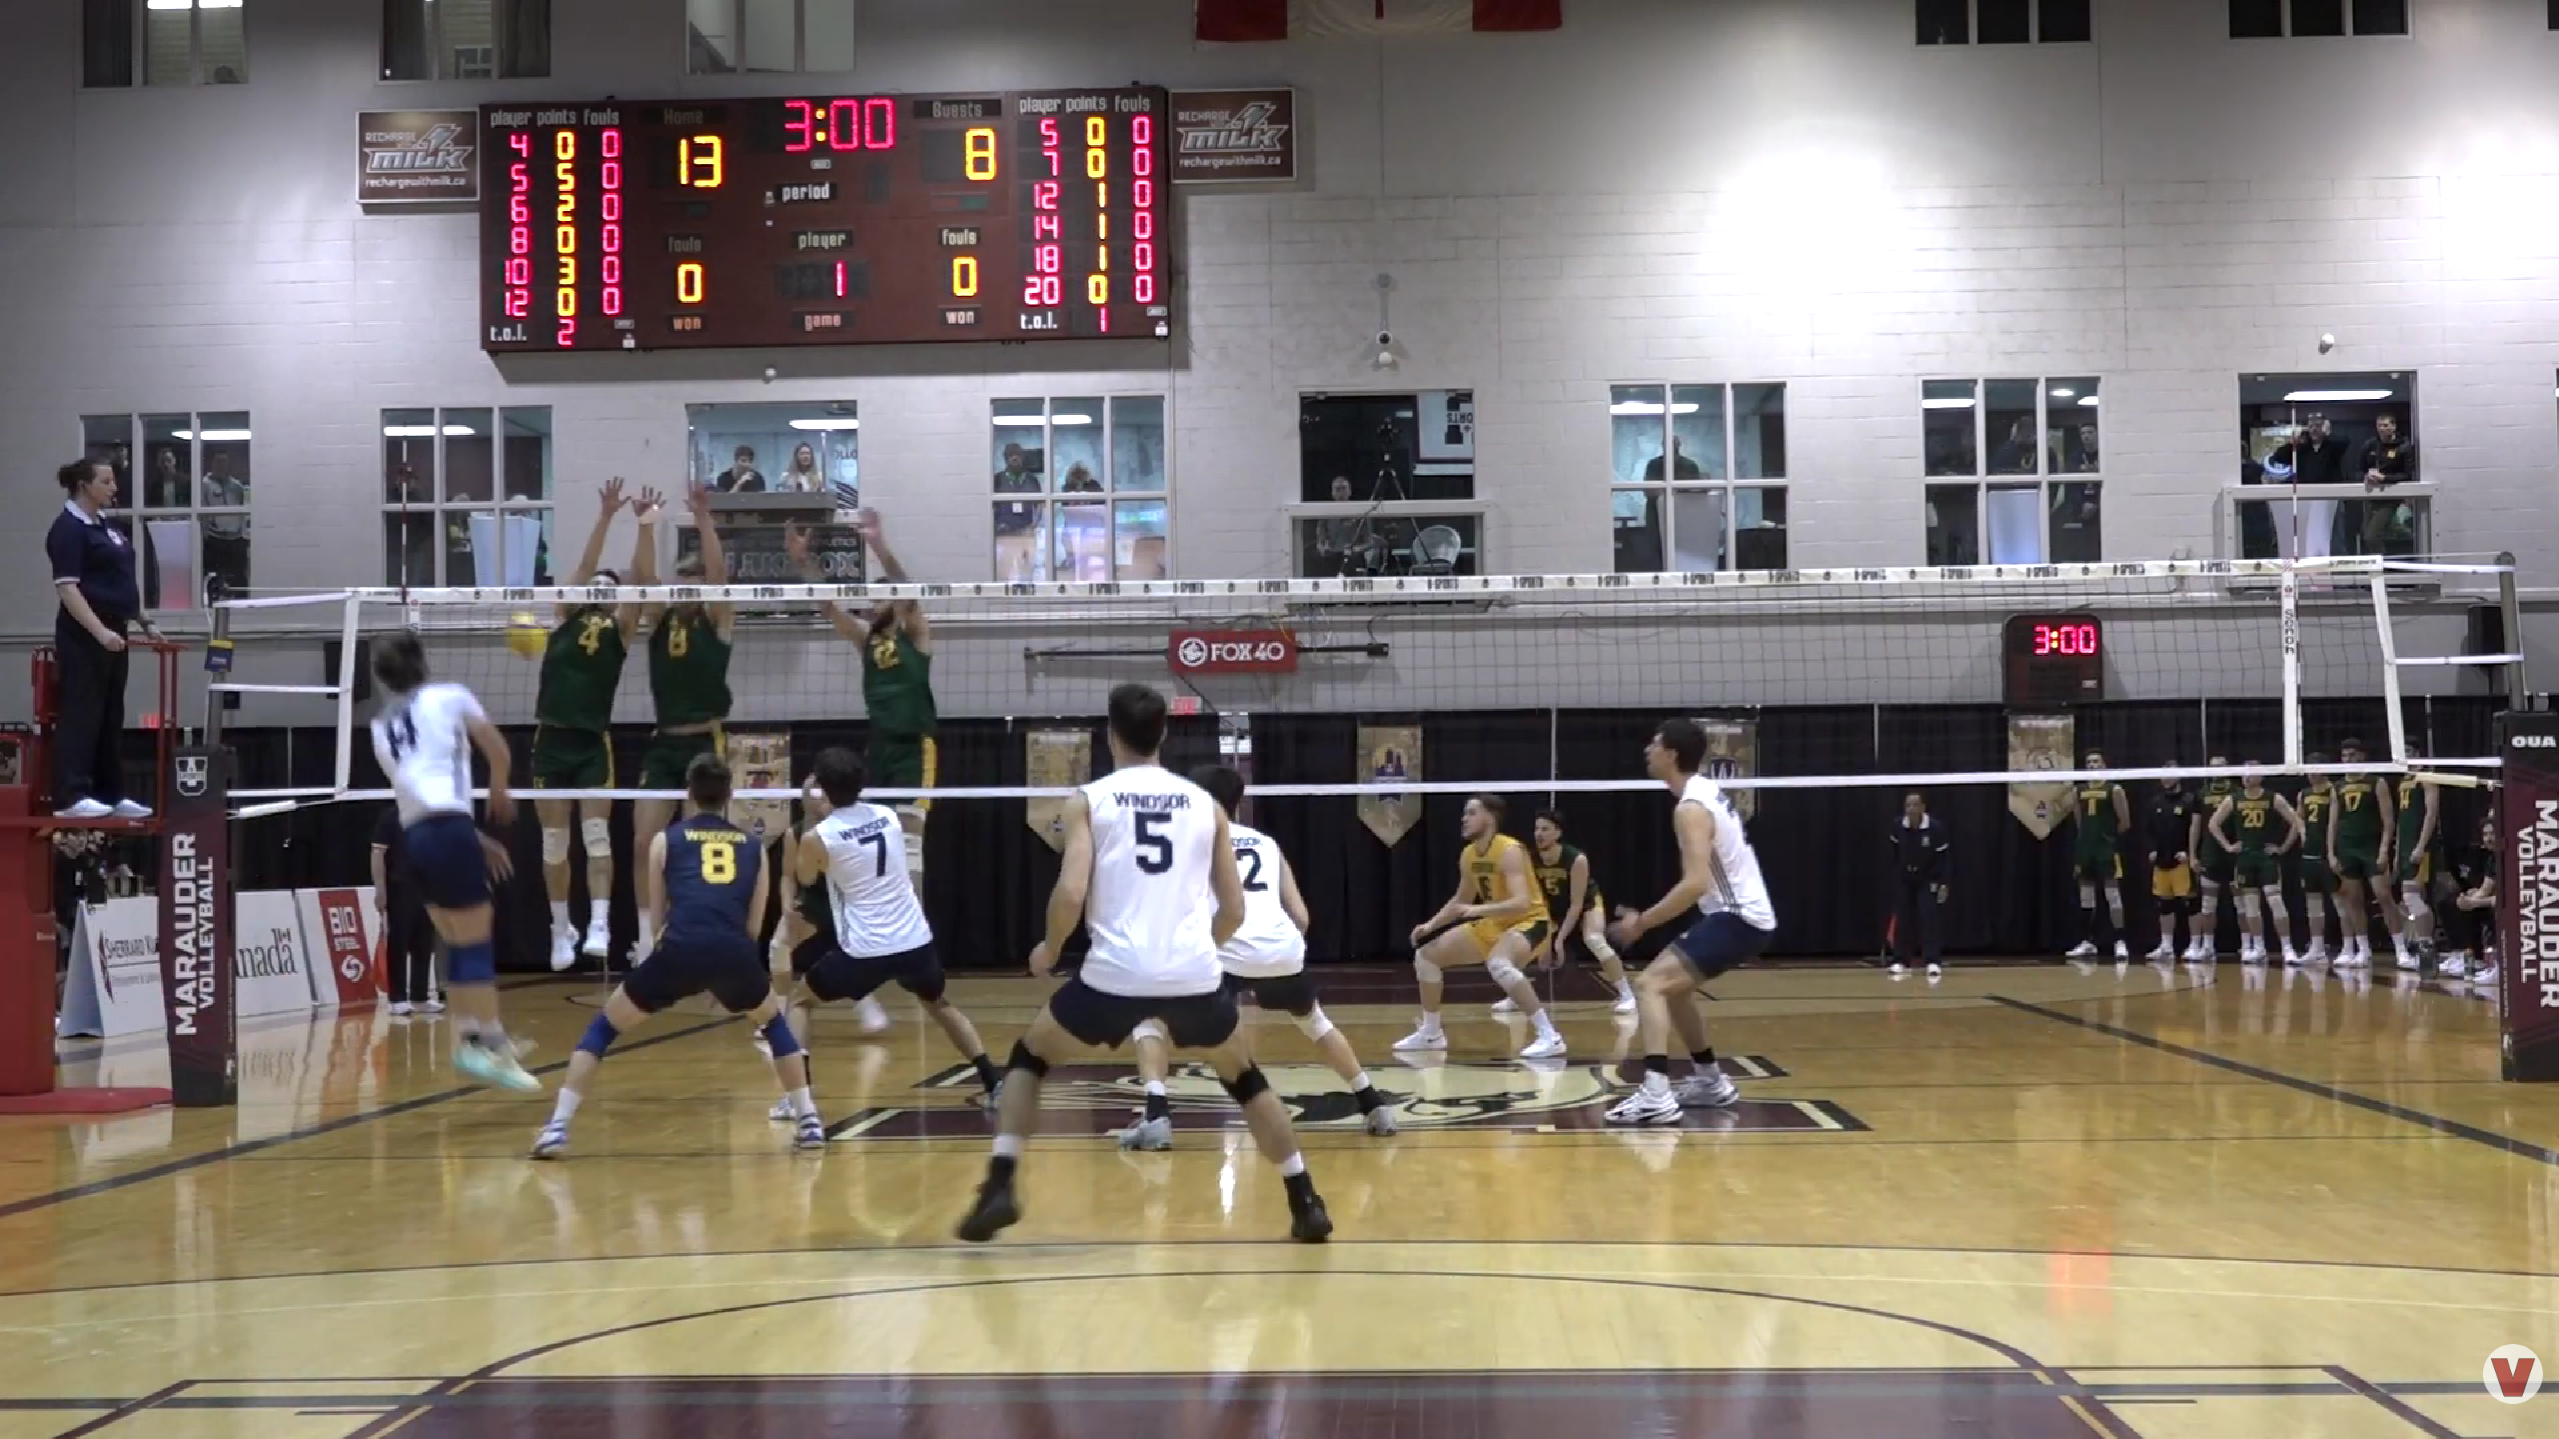Ball: (501, 610, 550, 662)
